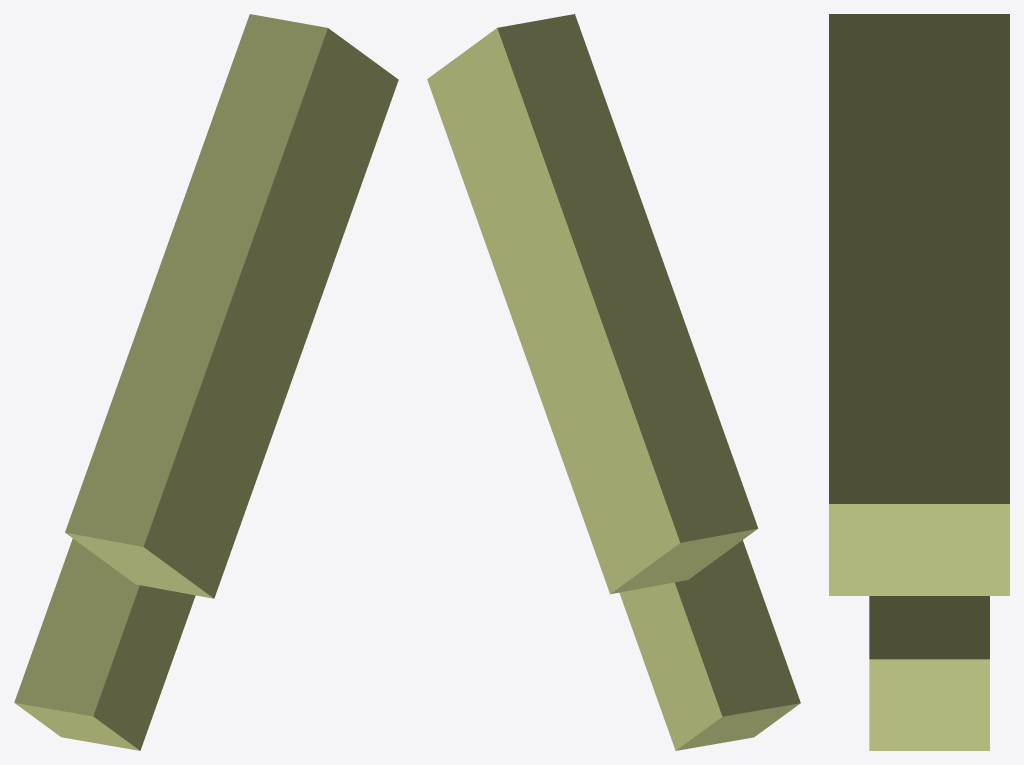
3 renders of one model, left to right at view 1: azimuth 30°, elevation 25°; view 2: azimuth 150°, elevation 25°; view 3: azimuth 270°, elevation 25°, orthographic. The views are drawn at different scales.
Parts seen in each view (by area): view 1: 0_3_2_3_1_2_2_0_1; view 2: 0_3_2_3_1_2_2_0_1; view 3: 0_3_2_3_1_2_2_0_1.
Boxes of the visible parts, left/top/right/bottom form: 0_3_2_3_1_2_2_0_1: left=14, top=14, right=398, bottom=750; 0_3_2_3_1_2_2_0_1: left=427, top=14, right=800, bottom=750; 0_3_2_3_1_2_2_0_1: left=829, top=14, right=1009, bottom=750.
Bounding box in the file's own units: 23.63 × 46.08 × 9.
